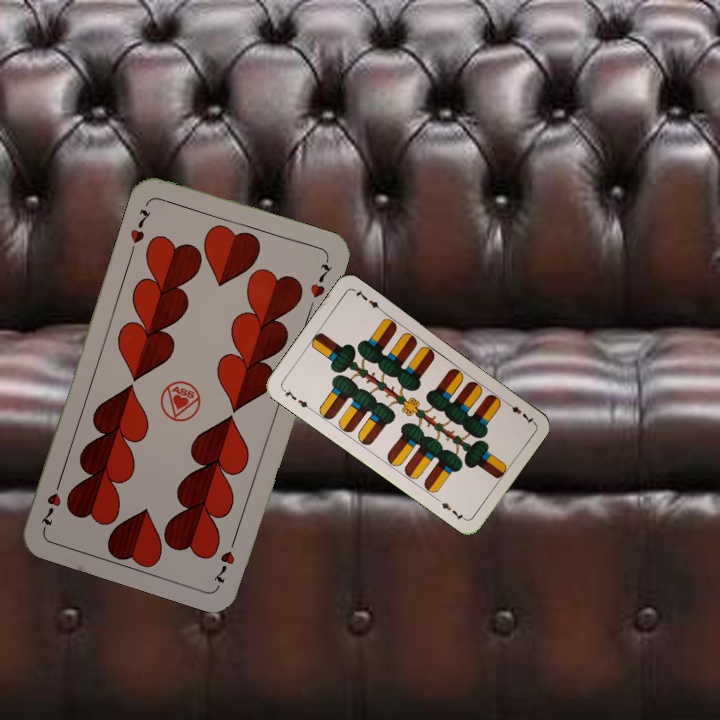E7: (501, 397, 536, 427), (278, 385, 314, 413)
H7: (209, 531, 240, 586), (126, 205, 154, 246)
